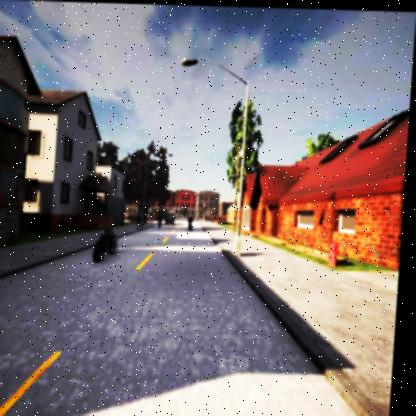motobike: (98, 212, 122, 261), (191, 215, 196, 230)
